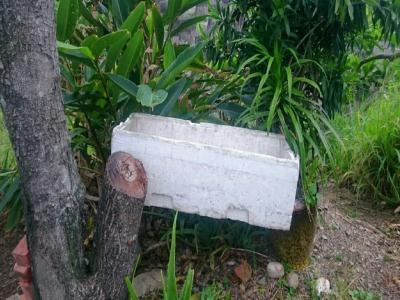styrofoam: (111, 110, 300, 231)
